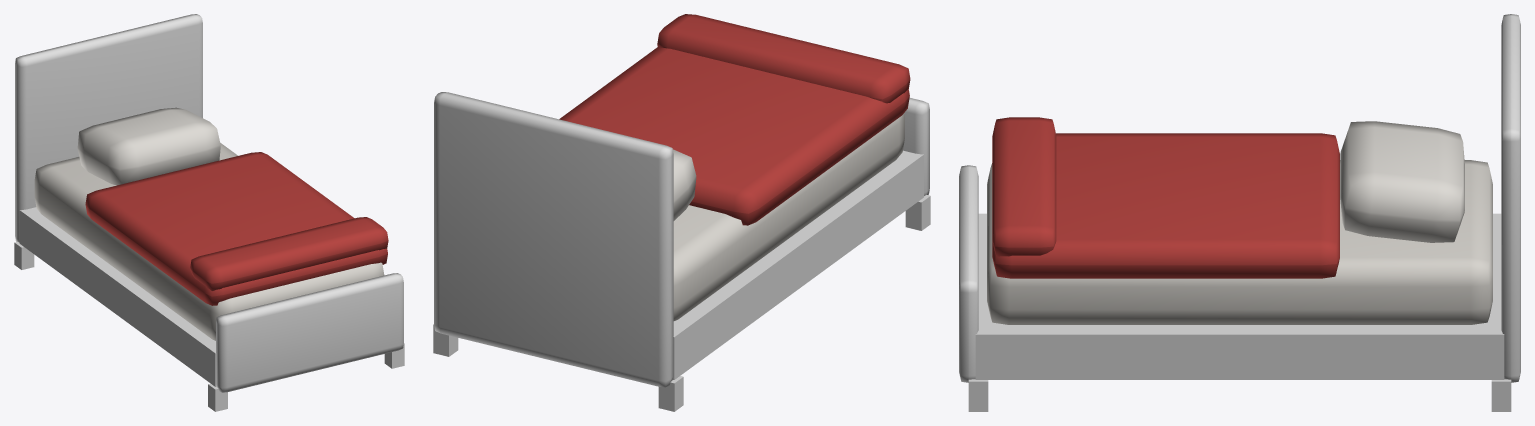
Rendered from bed-single-red.glb.
3 renders of one model, left to right at view 1: azimuth 30°, elevation 25°; view 2: azimuth 150°, elevation 25°; view 3: azimuth 270°, elevation 25°, orthographic. The views are drawn at different scales.
Parts seen in each view (by area): view 1: bed-single-red; view 2: bed-single-red; view 3: bed-single-red.
Boxes of the visible parts, left/top/right/bottom form: bed-single-red: left=14, top=14, right=404, bottom=411; bed-single-red: left=433, top=14, right=930, bottom=411; bed-single-red: left=959, top=14, right=1520, bottom=411.
Size of the model in its own units: 1.22 by 1.27 by 2.32.
